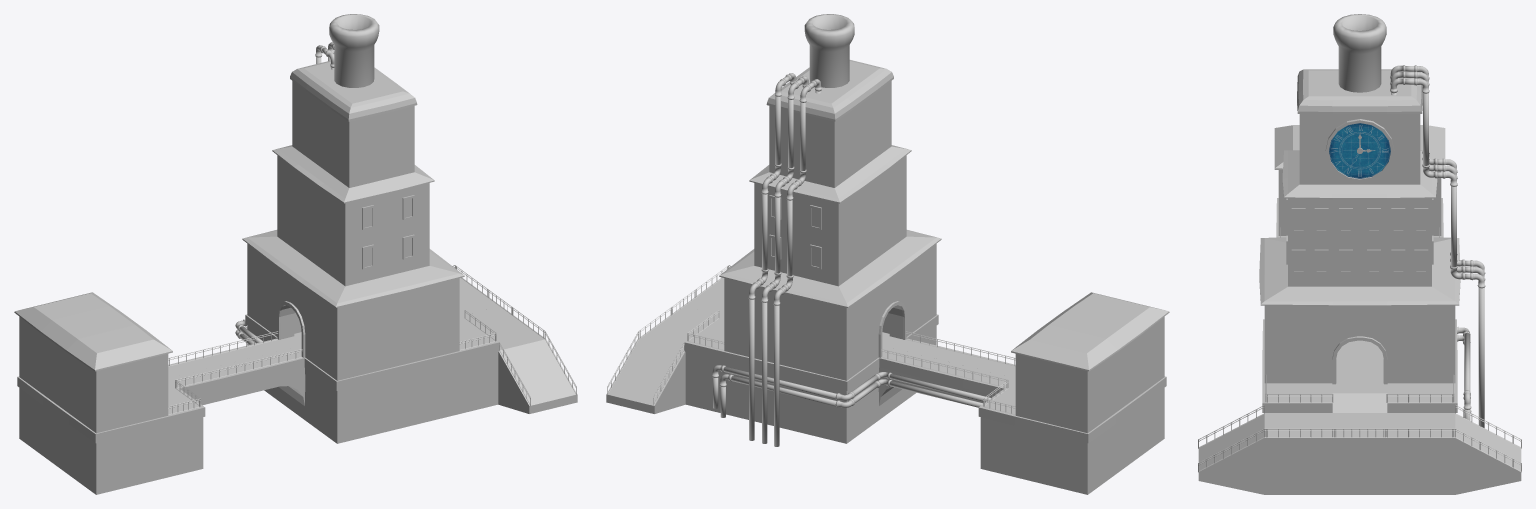
File: bridged_buildings.fbx
3 renders of one model, left to right at view 1: azimuth 30°, elevation 25°; view 2: azimuth 150°, elevation 25°; view 3: azimuth 270°, elevation 25°, orthographic. The views are drawn at different scales.
Parts seen in each view (by area): view 1: Cube.020, pipe2; view 2: Cube.020, pipe2; view 3: Cube.020, pipe2.
Part boxes in pixels (<box>): Cube.020: <box>14,14,577,494</box>; pipe2: <box>235,42,334,344</box>; Cube.020: <box>606,14,1169,494</box>; pipe2: <box>712,73,990,446</box>; Cube.020: <box>1198,14,1521,494</box>; pipe2: <box>1325,65,1485,427</box>.
Size of the model in its own units: 2559 by 2076 by 1511.
